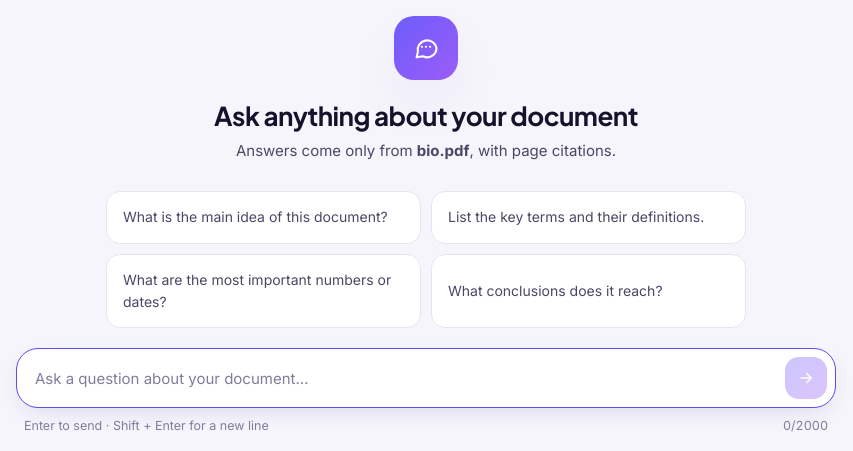
Test: ChatView › shows a validation error for a too-short question
Type "a" into the text box named "Your question" at (405, 379), box [35,359,775,399]
Then press Enter
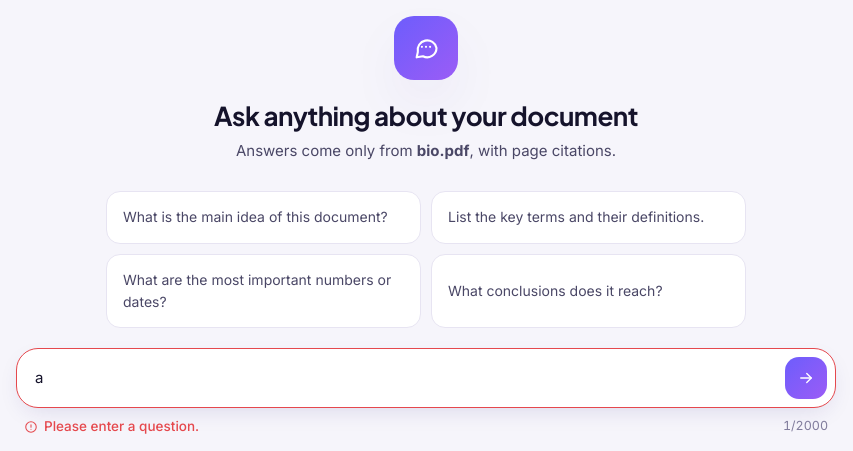
Now the message reads "Please enter a question.", box [44,418,199,434]
